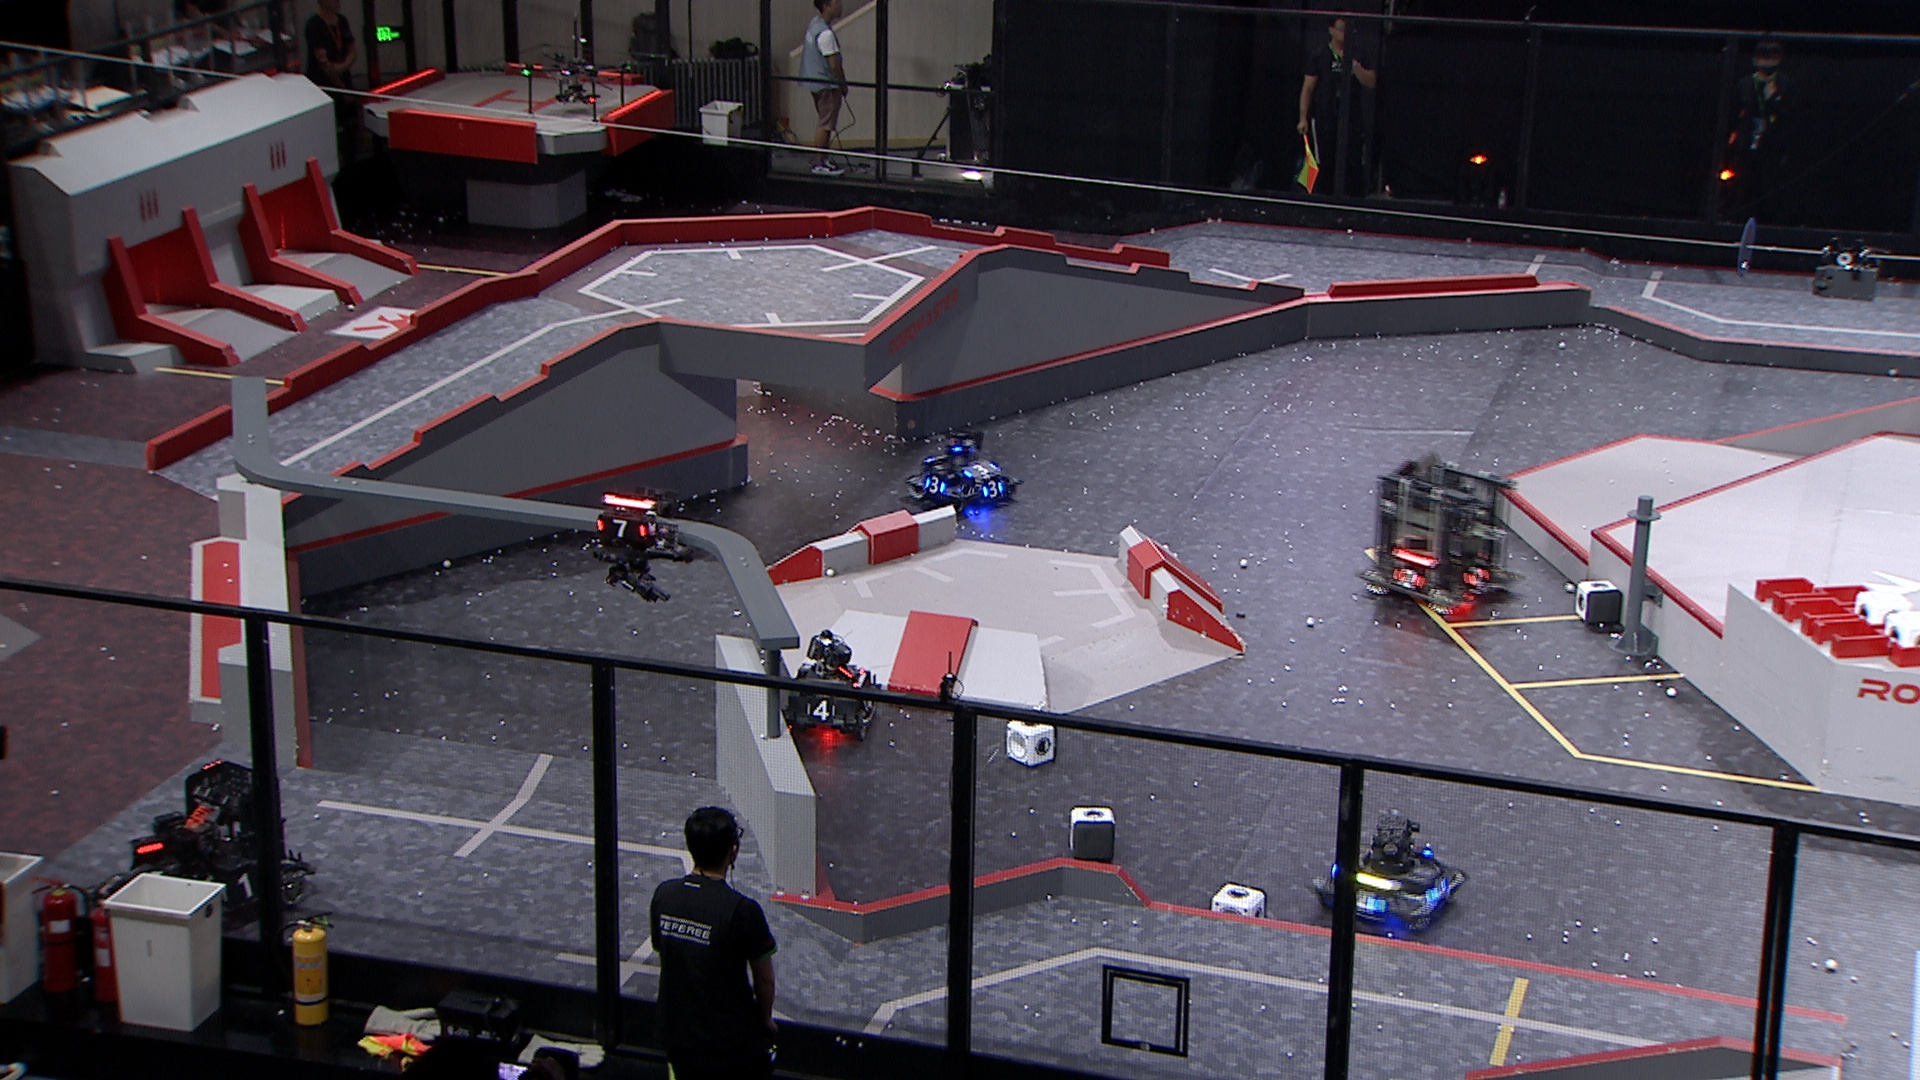armor: (593, 513, 647, 541), (216, 873, 258, 903), (1357, 887, 1390, 918), (1391, 567, 1427, 589), (803, 700, 839, 723), (1462, 566, 1489, 589), (961, 462, 994, 480), (922, 476, 949, 496), (1427, 878, 1449, 902), (981, 479, 1005, 500)
car: (98, 760, 318, 944), (1357, 454, 1523, 616), (1313, 808, 1470, 930), (779, 632, 880, 744), (903, 427, 1025, 518)
watcher: (584, 491, 698, 604)
